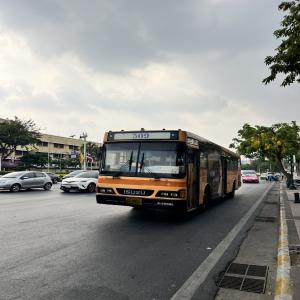BMTA-bus: (96, 130, 242, 216)
Bus Line Number: (131, 132, 150, 140)
Bus Side Number: (155, 202, 175, 208)
Destination Sign: (153, 165, 180, 174)
